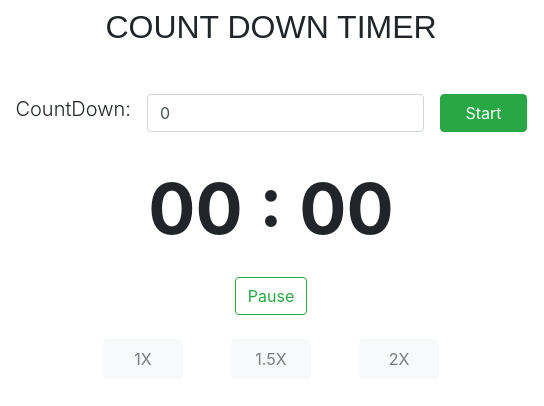
Test: Testing the CountDownTimer App input / button click
Replace the text in the number field with test id "count-down-input" with "3" at (286, 113), box [147, 94, 424, 132]
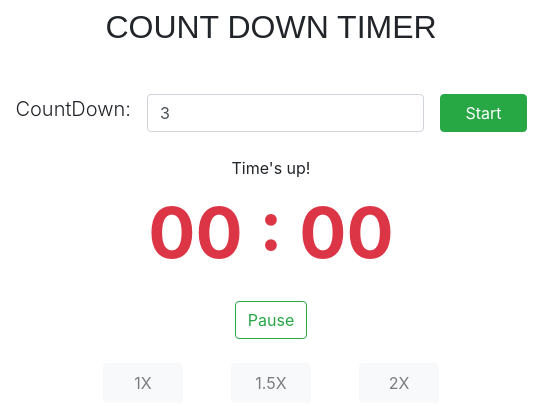
Click the button with test id "count-down-btn" at (484, 113), box [440, 94, 527, 132]
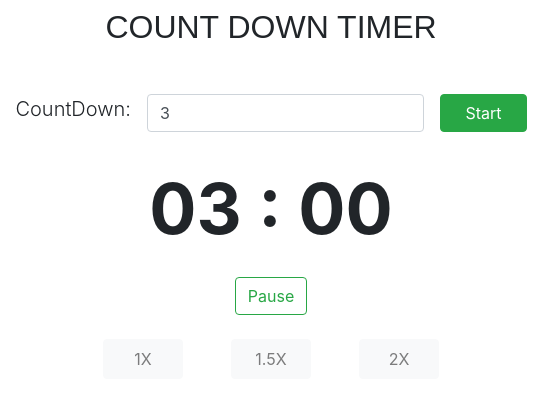
expect the text with test id "count-down-span" reads "03 : 00": met, box [149, 156, 393, 261]
